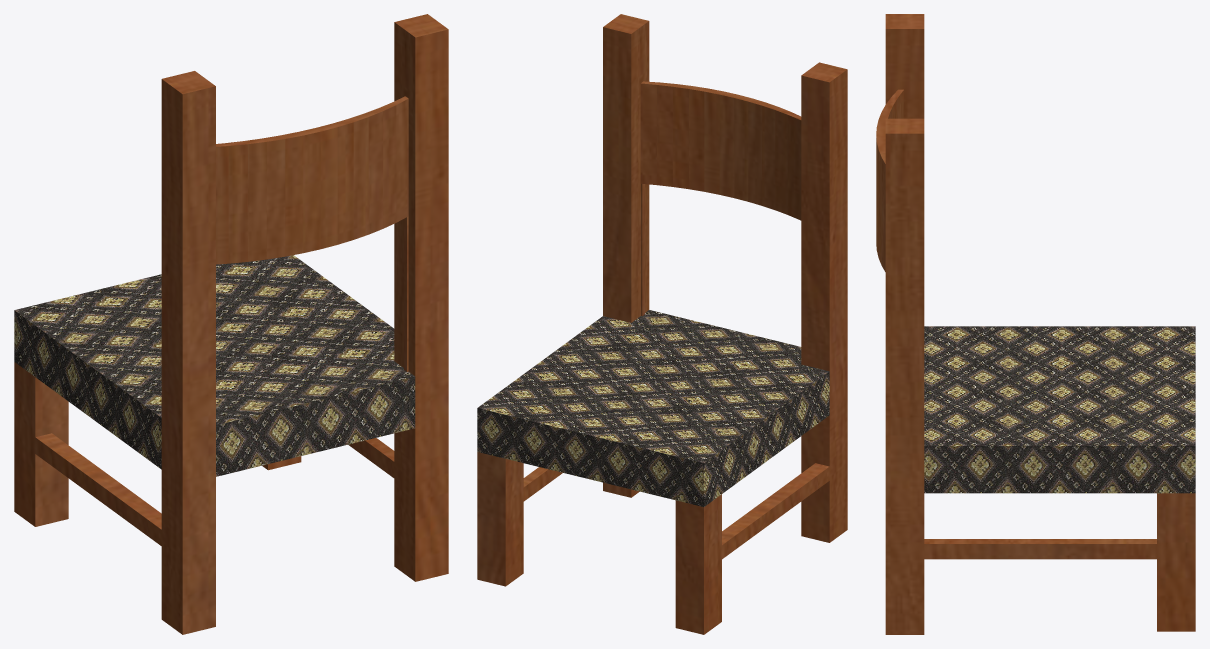
The picture shows the model from 3 angles, left to right: view 1: azimuth 30°, elevation 25°; view 2: azimuth 150°, elevation 25°; view 3: azimuth 270°, elevation 25°; orthographic projection. The views are drawn at different scales.
Visible parts, largest first — view 1: SketchUp_ID2, SketchUp_ID47, SketchUp_ID23, SketchUp_ID72; view 2: SketchUp_ID47, SketchUp_ID2, SketchUp_ID23, SketchUp_ID15, SketchUp_ID72; view 3: SketchUp_ID47, SketchUp_ID23, SketchUp_ID2, SketchUp_ID15, SketchUp_ID72.
Part boxes in pixels (bbox=[...]): SketchUp_ID2: bbox=[14, 71, 408, 634]; SketchUp_ID47: bbox=[14, 255, 415, 476]; SketchUp_ID23: bbox=[394, 14, 448, 581]; SketchUp_ID72: bbox=[348, 438, 394, 477]; SketchUp_ID47: bbox=[477, 310, 829, 506]; SketchUp_ID2: bbox=[640, 62, 847, 634]; SketchUp_ID23: bbox=[603, 14, 649, 497]; SketchUp_ID15: bbox=[477, 452, 523, 586]; SketchUp_ID72: bbox=[523, 467, 562, 501]; SketchUp_ID47: bbox=[924, 326, 1195, 493]; SketchUp_ID23: bbox=[885, 118, 924, 634]; SketchUp_ID2: bbox=[876, 14, 924, 271]; SketchUp_ID15: bbox=[1157, 493, 1195, 631]; SketchUp_ID72: bbox=[924, 539, 1156, 559].
Bounding box in the file's own units: 0.4049 × 0.7918 × 0.4573.
